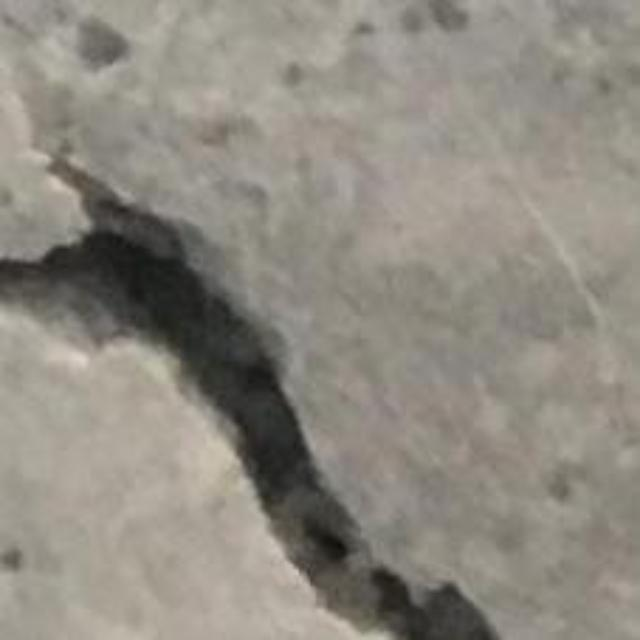crack: (0, 125, 499, 639)
